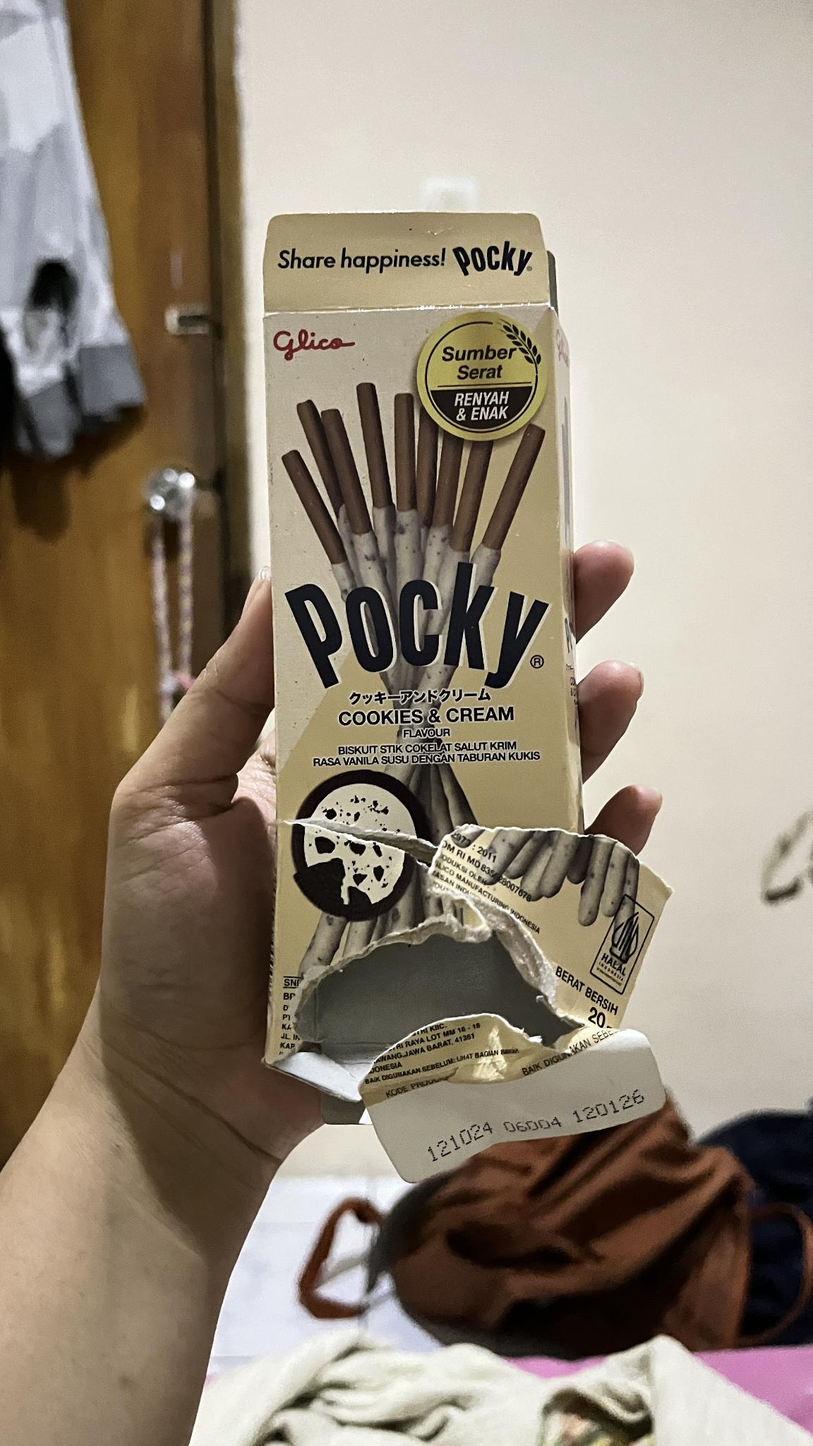Kertas: (262, 308, 584, 1065)
